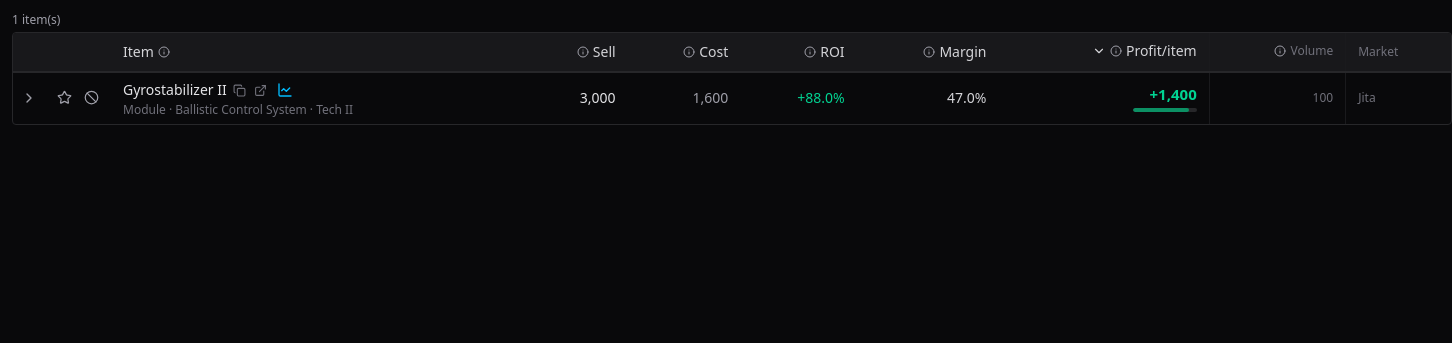
Test case: ProfitTable › shows the base blueprint a T2 item is invented from when expanded
Check: the text "Invention from Gyrostabilizer Blueprint" is not shown
Click the text "Gyrostabilizer II" at (175, 90), box [123,80,227,100]
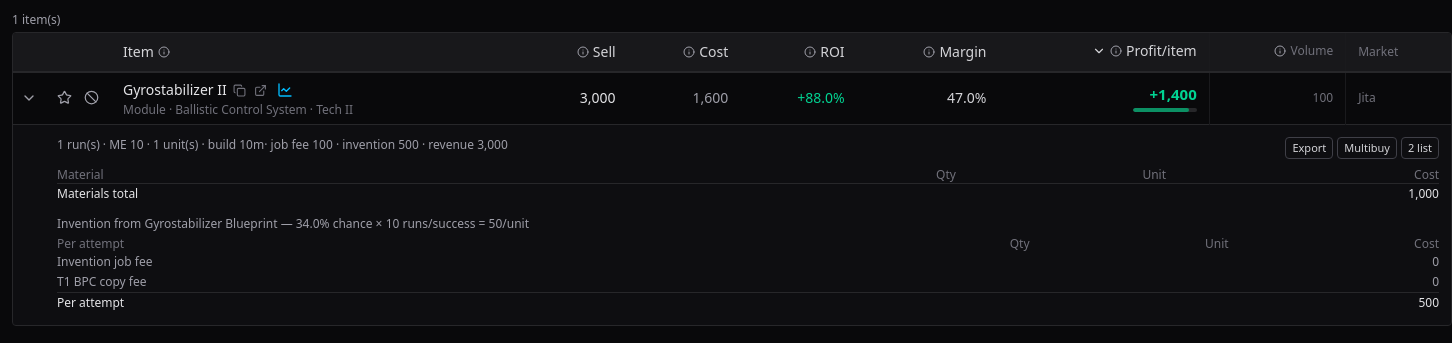
Check: the text "Invention from Gyrostabilizer Blueprint" is shown, box [57,215,529,232]
